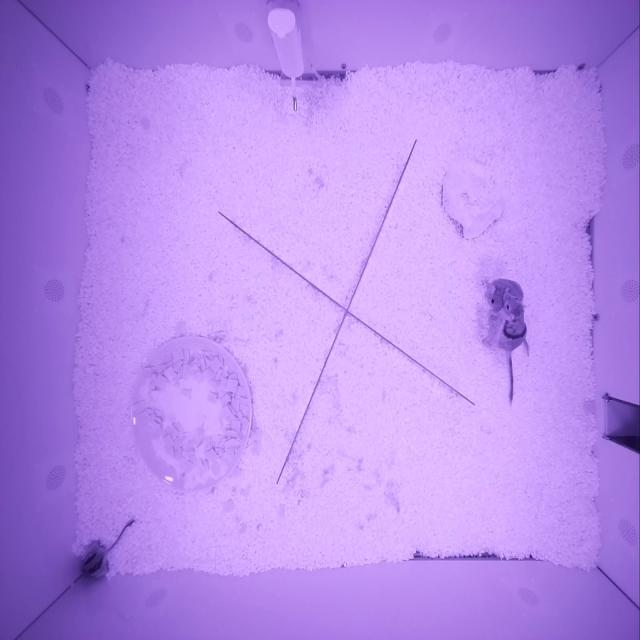adult_back: (483, 278, 523, 314)
adult_front: (496, 292, 529, 351)
pup_v_stripe: (81, 542, 108, 578)
